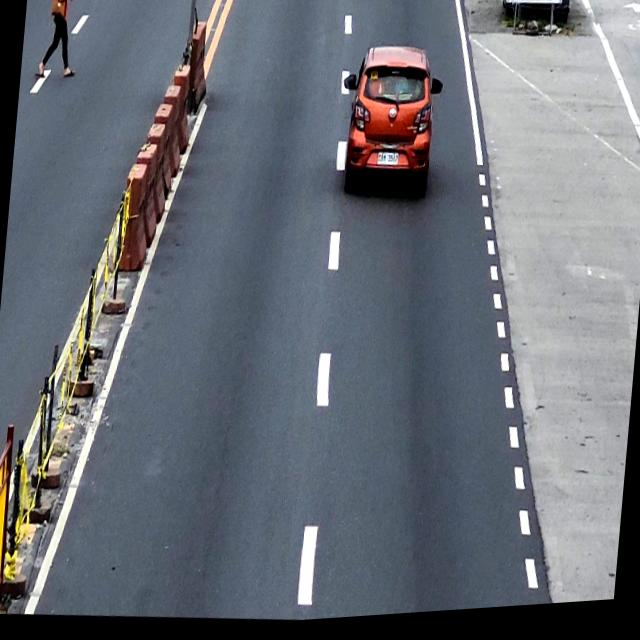Car: (334, 45, 446, 211)
License-Plate: (376, 156, 399, 172)
